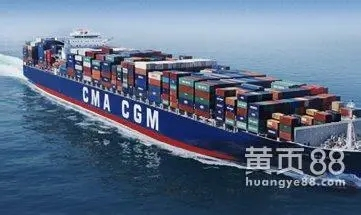Cargoship: (20, 24, 361, 171)
